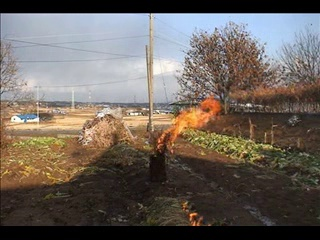fire: (154, 94, 222, 153), (179, 196, 212, 226)
